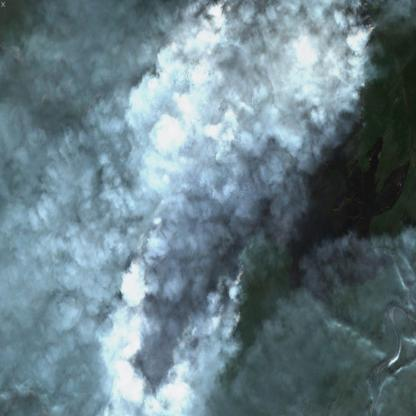fire: (134, 218, 166, 264), (357, 0, 382, 47), (233, 250, 249, 286)
